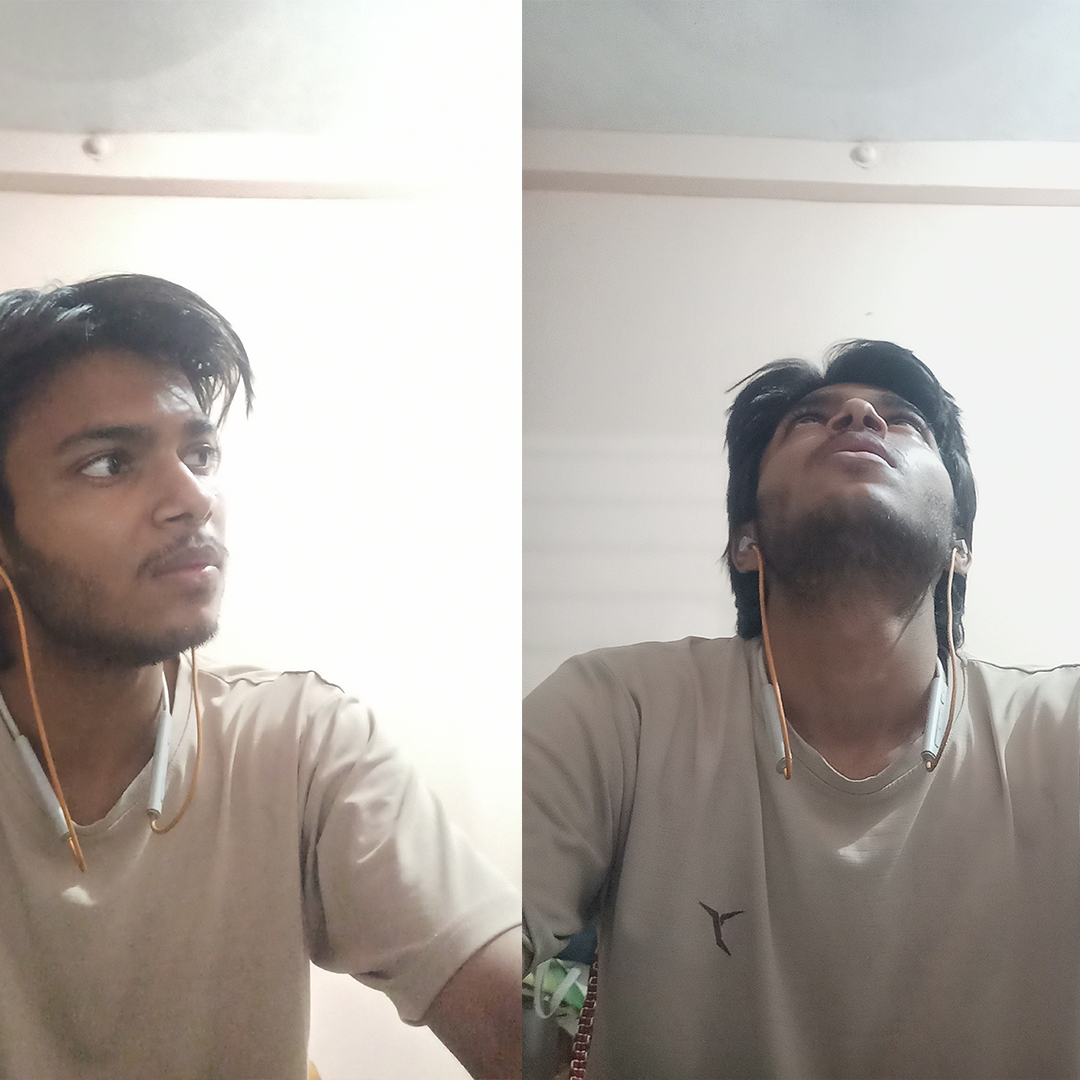distracted: (23, 205, 331, 727), (701, 227, 991, 712)
